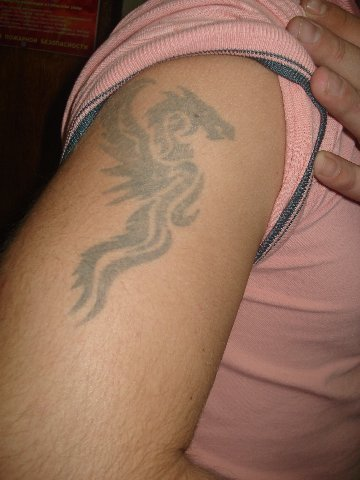tatu6_drakon: (65, 53, 240, 342)
